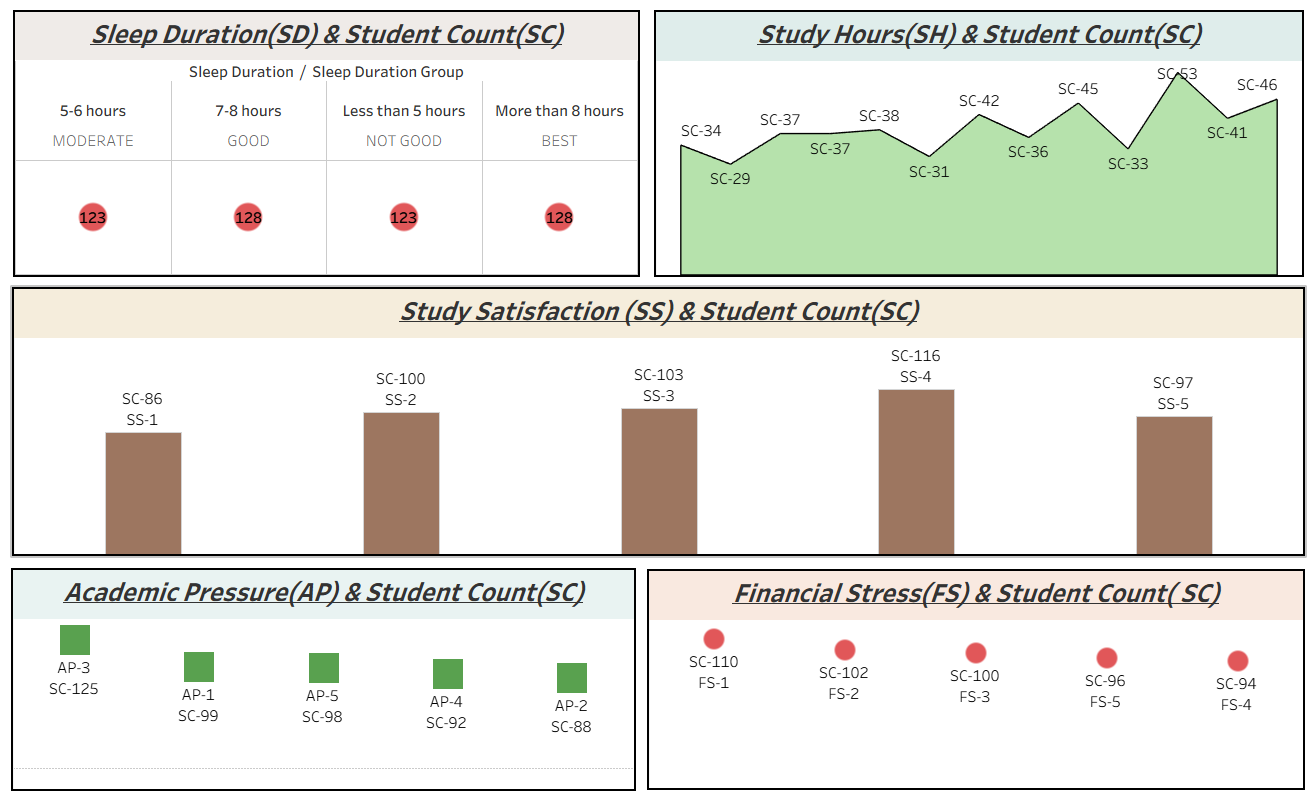

What the dashboard file says about the page in this screenshot:
{"tool":"tableau","page":{"name":"Student Count Analysis","canvas":[1000,1000],"units":"permille","ordinal":0},"visuals":[{"type":"worksheet","title":"SD & SC ","mark":"Circle","cols":["Sleep Duration","Sleep Duration Group"],"box":[9.8,13.7,385.9,333.3]},{"type":"worksheet","title":"SH & SC","mark":"Area","rows":["INDEX"],"cols":["Study Hours"],"box":[404.3,13.7,400,333.3]},{"type":"worksheet","title":"SS & SC","mark":"Automatic","rows":["INDEX"],"cols":["Study Satisfaction"],"box":[9.2,359.6,795.7,335.8]},{"type":"worksheet","title":"AP & SC","mark":"Square","rows":["INDEX"],"cols":["Academic Pressure"],"box":[8.6,710.4,384.6,278.4]},{"type":"worksheet","title":"FS & SC","mark":"Circle","rows":["INDEX"],"cols":["Financial Stress"],"box":[400.1,711.6,404.9,275.9]}]}

Visuals, with their boxes on the dashboard's canvas, which has no fixed pixel size, in thousandths of its width and height (x1, y1, x2, y2). These are canvas units, not pixel positions in the 1312x800 screenshot, which may show the page scaled, cropped or inside an application window:
"SD & SC " worksheet (Circle marks): [10, 14, 396, 347]
"SH & SC" worksheet (Area marks): [404, 14, 804, 347]
"SS & SC" worksheet: [9, 360, 805, 695]
"AP & SC" worksheet (Square marks): [9, 710, 393, 989]
"FS & SC" worksheet (Circle marks): [400, 712, 805, 988]
